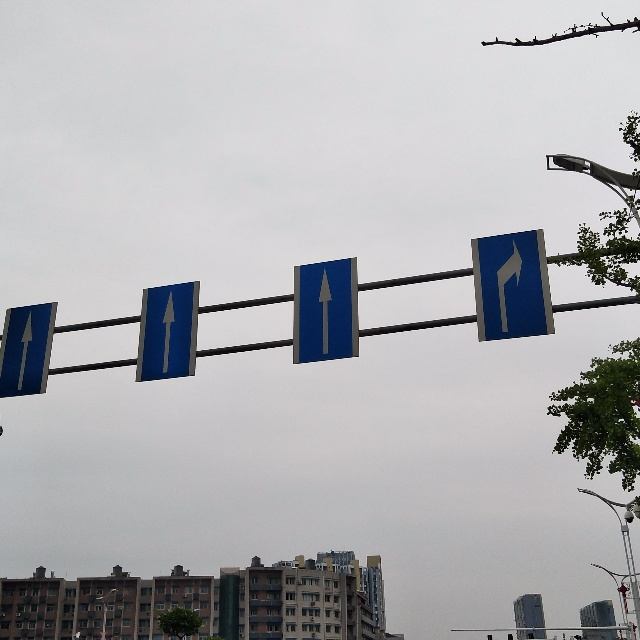right: (474, 236, 548, 336)
straight: (300, 263, 353, 362), (144, 285, 190, 380), (6, 306, 43, 392)
